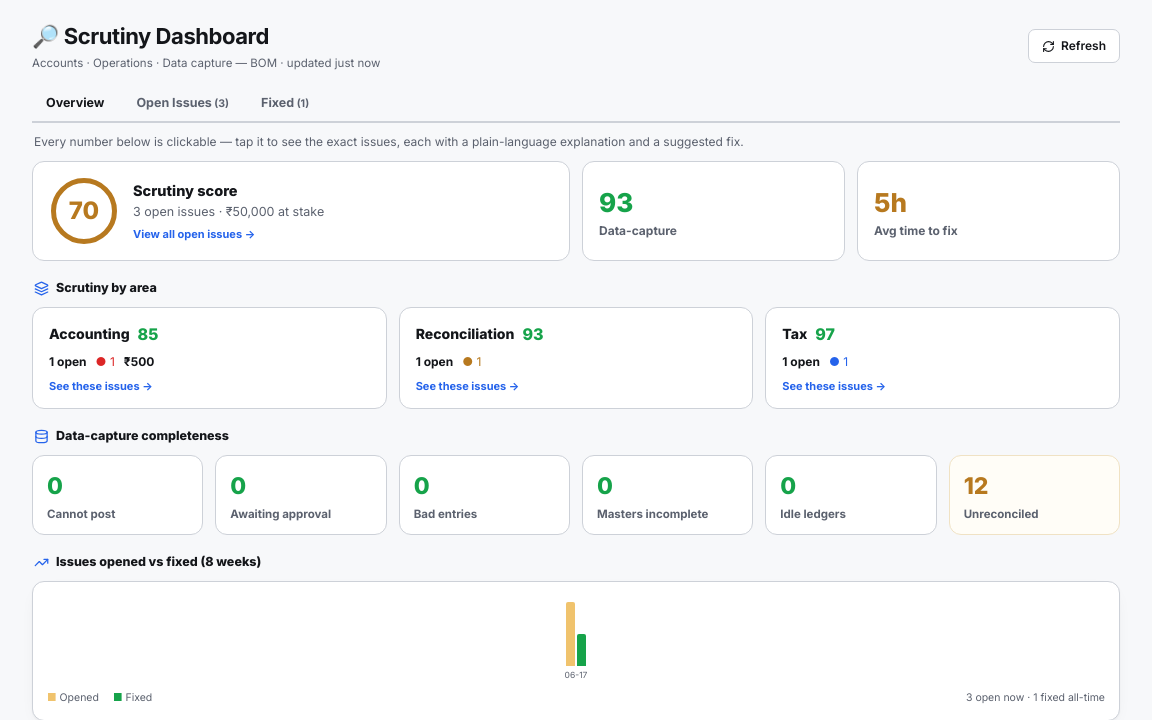
Test: Scrutiny Dashboard › an area card drills into the Open Issues tab filtered to that area
The width and height of the screenshot is (1152, 720).
Click the text "Reconciliation": (465, 334) [416,323,514,344]
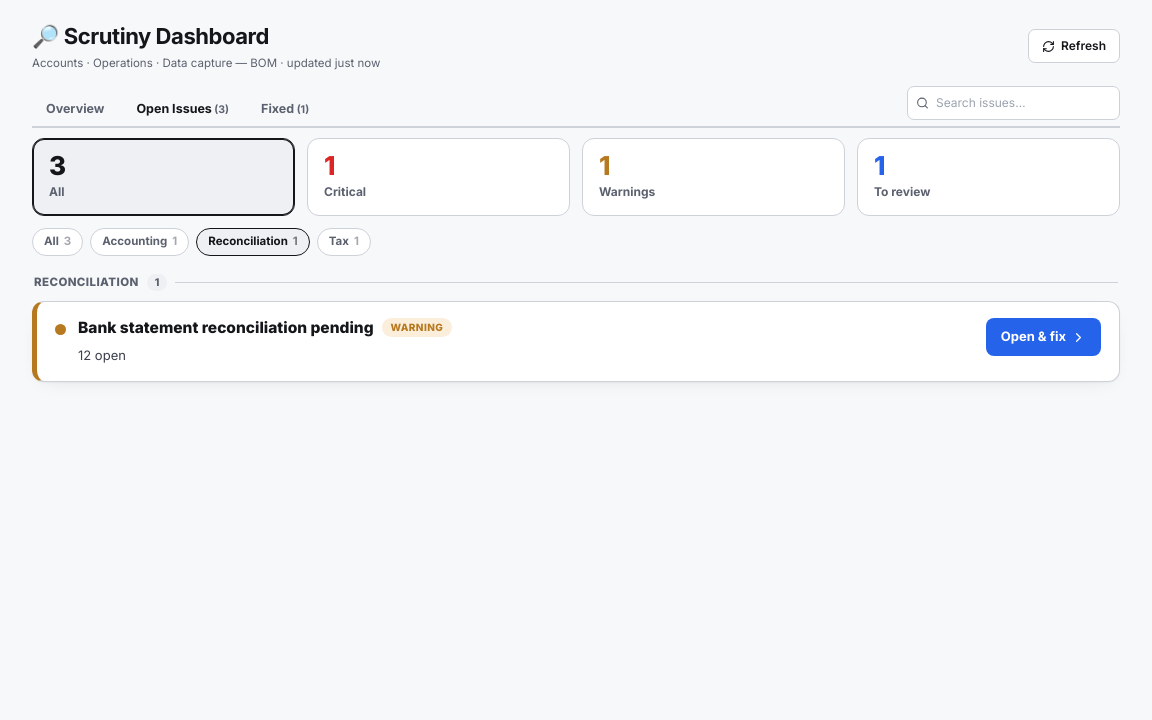
Expected: the text "Bank statement reconciliation pending" is shown, [78,318,374,338]
